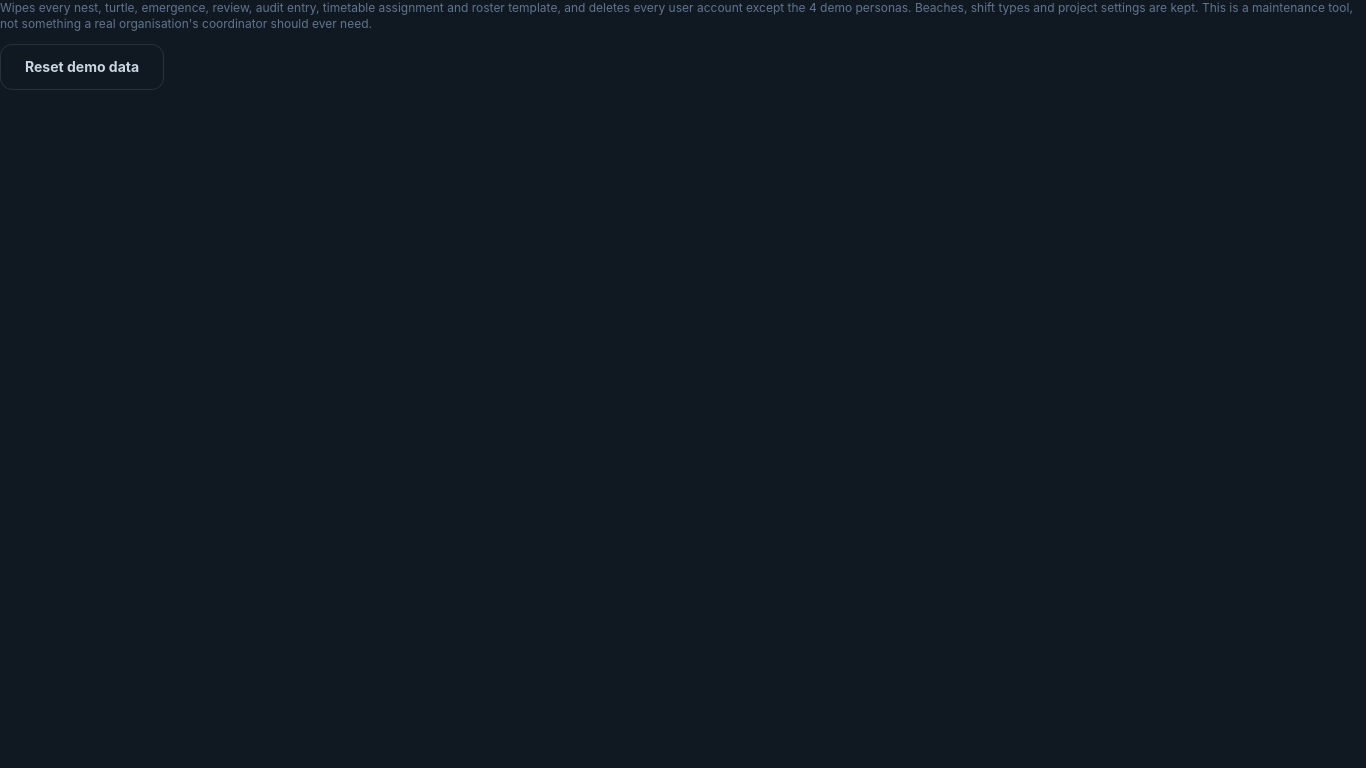
Test: ResetDemoDataPanel › reveals a type-to-confirm panel, keeps the confirm button disabled until the exact phrase is typed, and calls resetDemoData on confirm
Click the button "Reset demo data": (82, 67) [0,44,164,90]
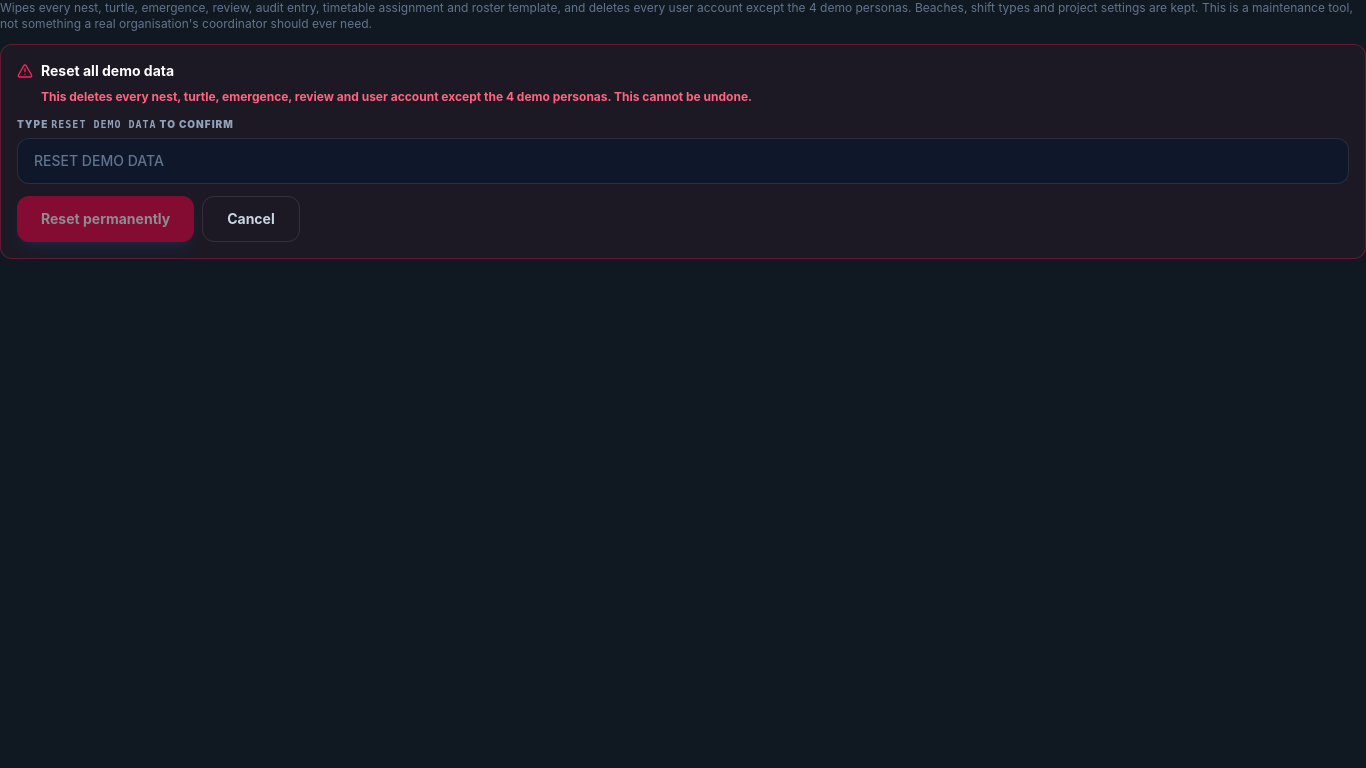
Result: the button "Reset permanently" is disabled at [17,196,194,242]
In the field labelled "Type RESET DEMO DATA to confirm": (683, 161) [17,138,1349,184], type "wrong phrase"
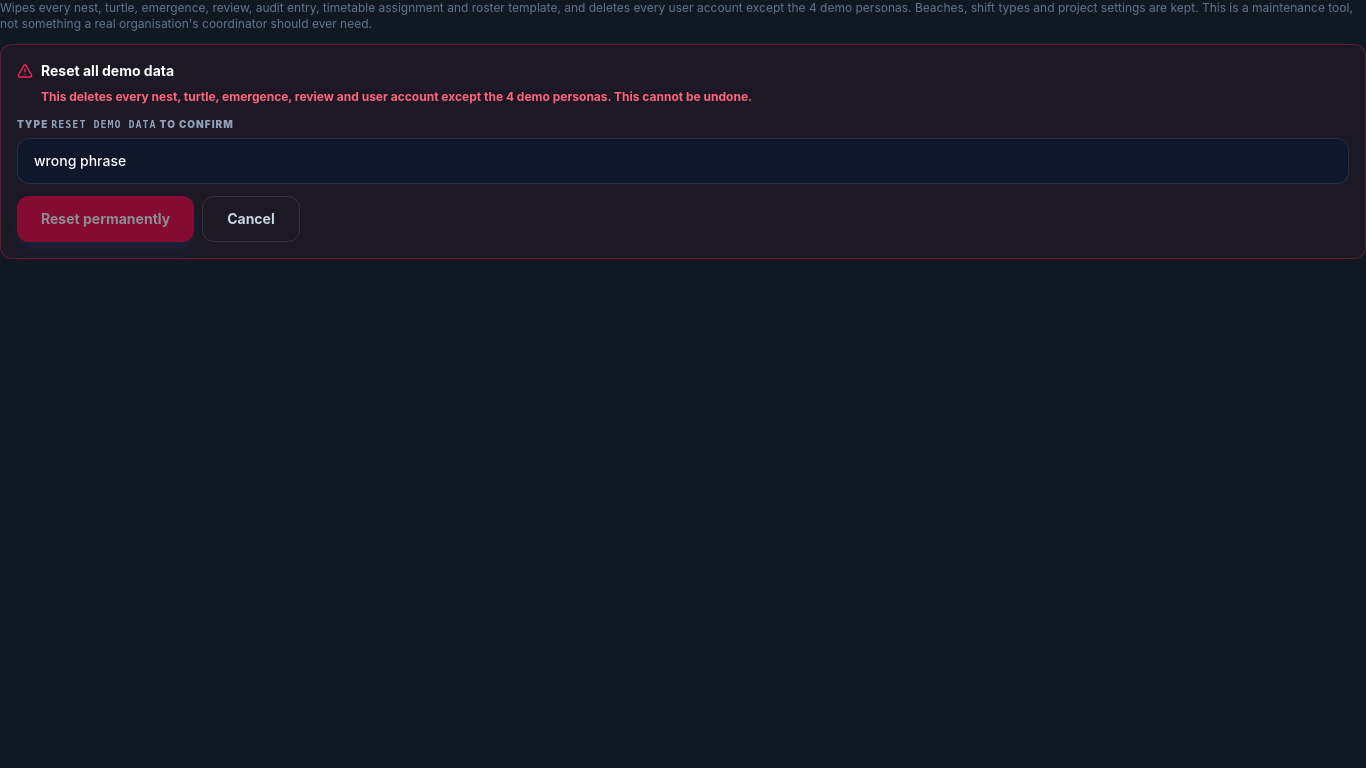
Result: the button "Reset permanently" is disabled at [17,196,194,242]
Replace the text in the field labelled "Type RESET DEMO DATA to confirm" with "RESET DEMO DATA": (683, 161) [17,138,1349,184]
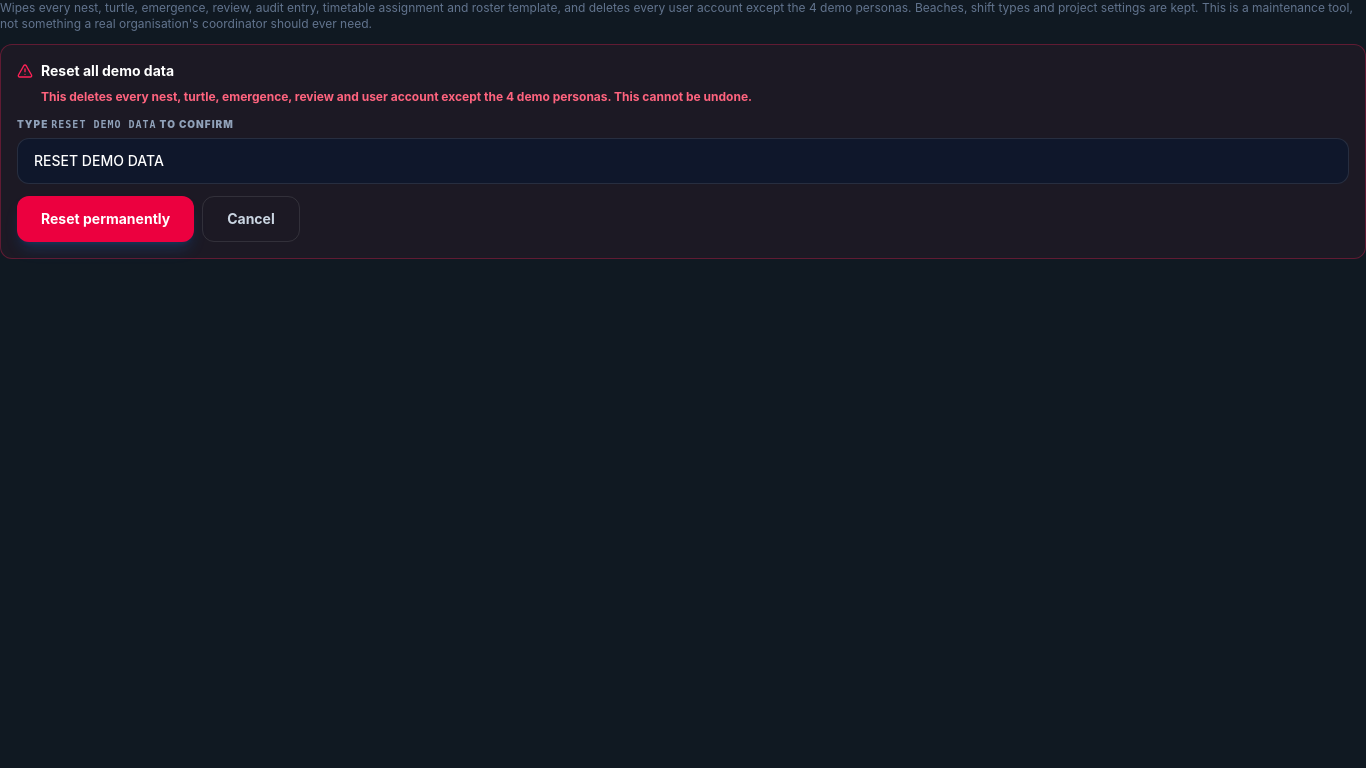
Result: the button "Reset permanently" is enabled
Click the button "Reset permanently": (106, 219) [17,196,194,242]
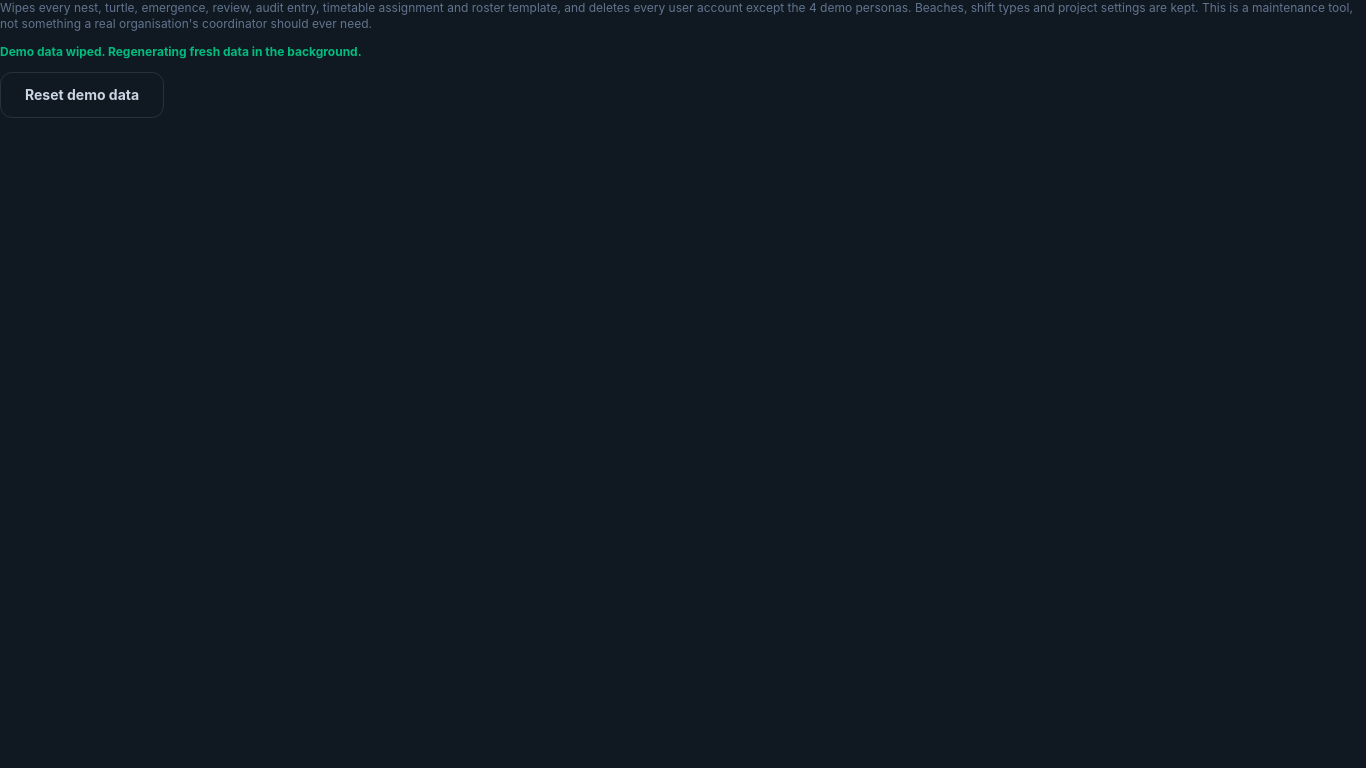
Result: the text "Demo data wiped. Regenerating fresh data in the background." is shown at [0,44,362,59]
